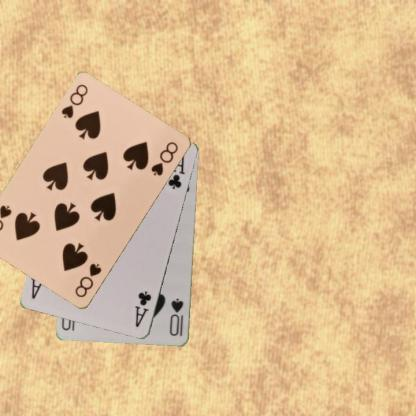10s: (167, 296, 185, 338)
8s: (72, 261, 104, 299), (58, 82, 90, 120)
Ac: (132, 289, 153, 329)
